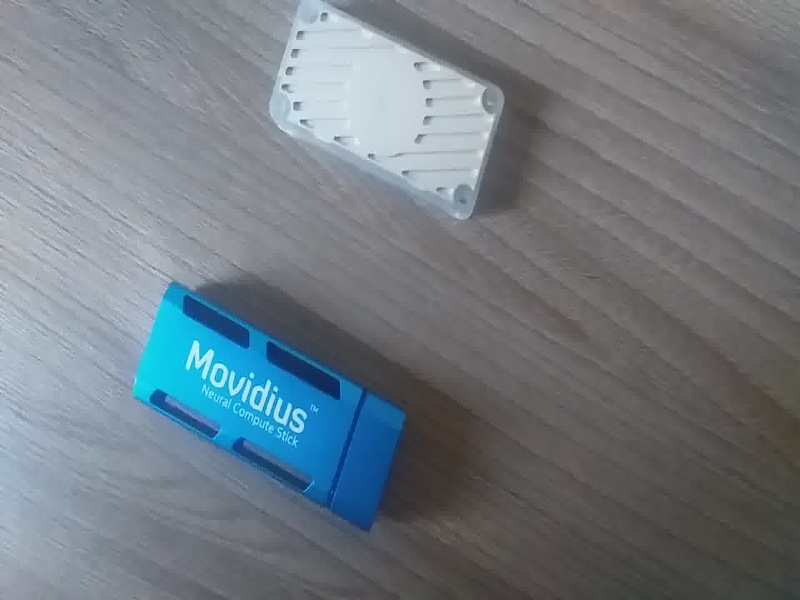coral: (263, 2, 510, 224)
movidius: (120, 277, 419, 543)
